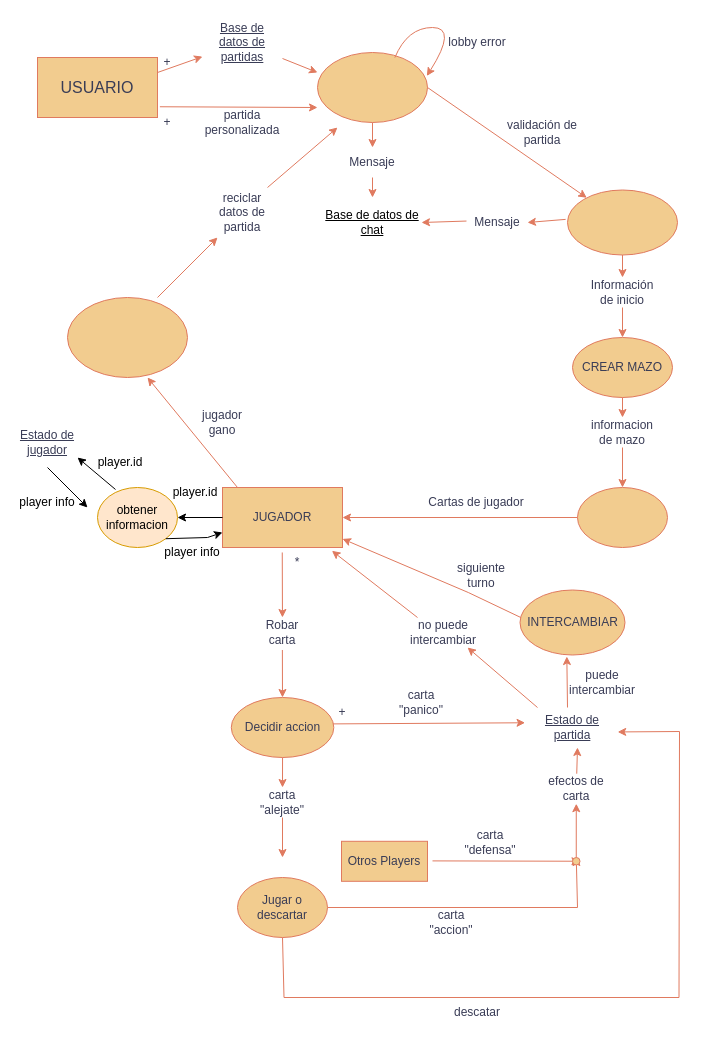
The diagram is 705 pixels wide and 1044 high, and some of its shapes have lost their labels. Each missing label, with the centre of its shape:
End match y scoreboard: (x=127, y=337)
LOBBY: (x=372, y=87)
PARTIDA: (x=622, y=222)
REPARTIR: (x=622, y=517)
